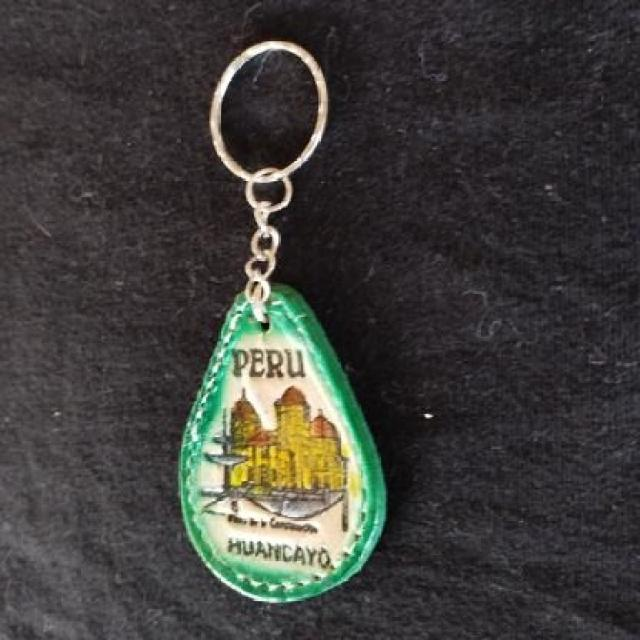Llavero: (176, 282, 389, 604)
